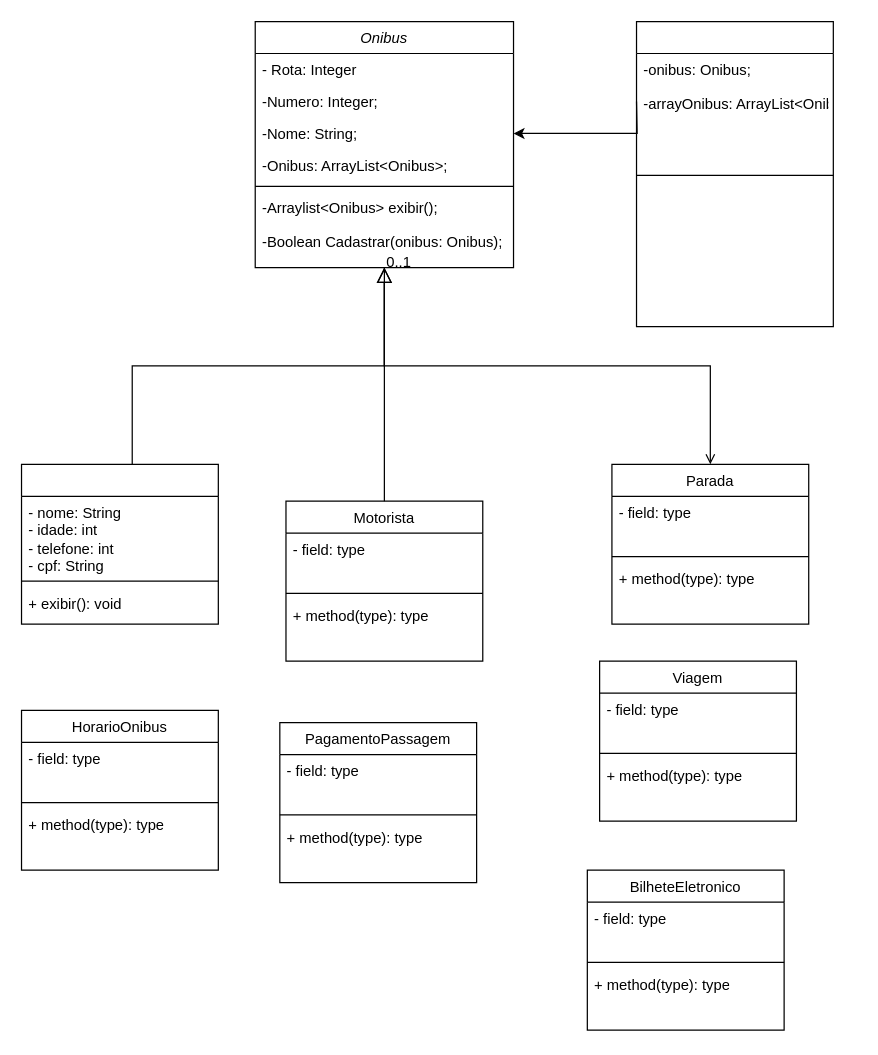
Some shapes in this 878 by 1055 pixel diagram are drawn without their labels. Here are the shapes that lost their labels. From the top down, the box of each, then its label:
(635, 20, 833, 327): Database
(20, 463, 218, 624): Passageiro
